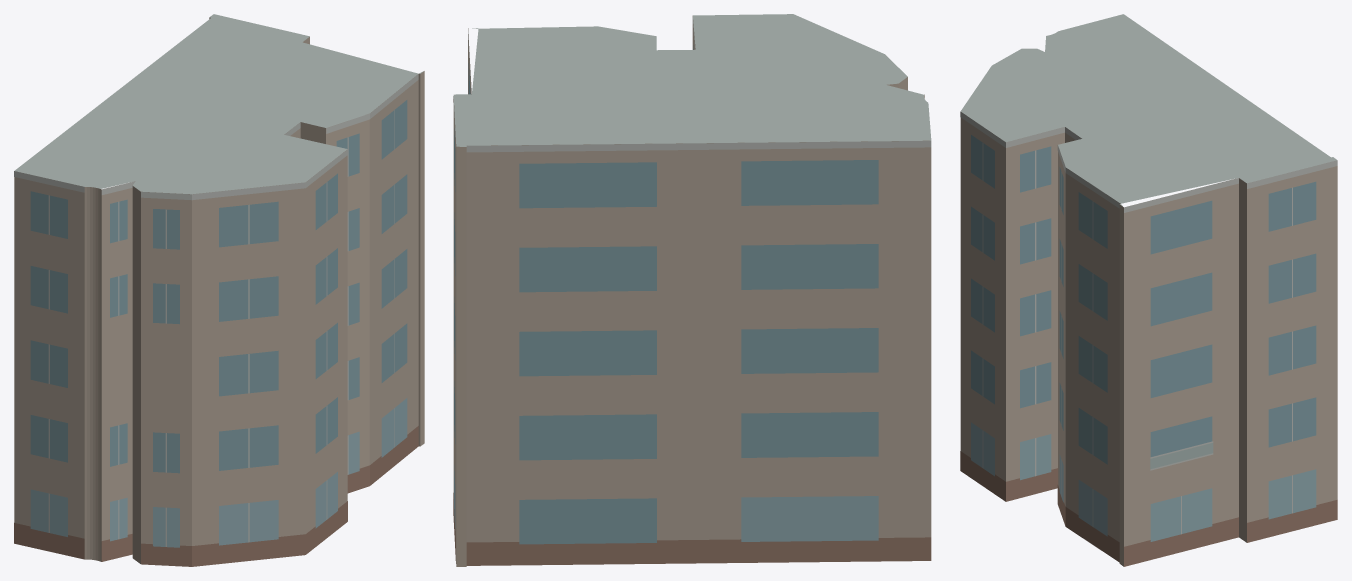
The model's file is survey-upis-32649117.glb.
3 views of the same model, side by side, from view 1: azimuth 30°, elevation 25°; view 2: azimuth 150°, elevation 25°; view 3: azimuth 270°, elevation 25° (orthographic). The views are drawn at different scales.
Visible parts, largest first — view 1: survey-upis-32649117.tmp; view 2: survey-upis-32649117.tmp; view 3: survey-upis-32649117.tmp.
Part boxes in pixels (left/top/right/bottom): survey-upis-32649117.tmp: left=14, top=14, right=424, bottom=566; survey-upis-32649117.tmp: left=453, top=14, right=931, bottom=566; survey-upis-32649117.tmp: left=960, top=14, right=1337, bottom=566.
Bounding box in the file's own units: 17.6 × 15.25 × 14.5.
